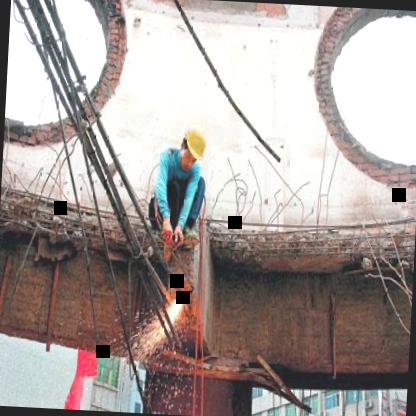helmet: (179, 121, 207, 173)
